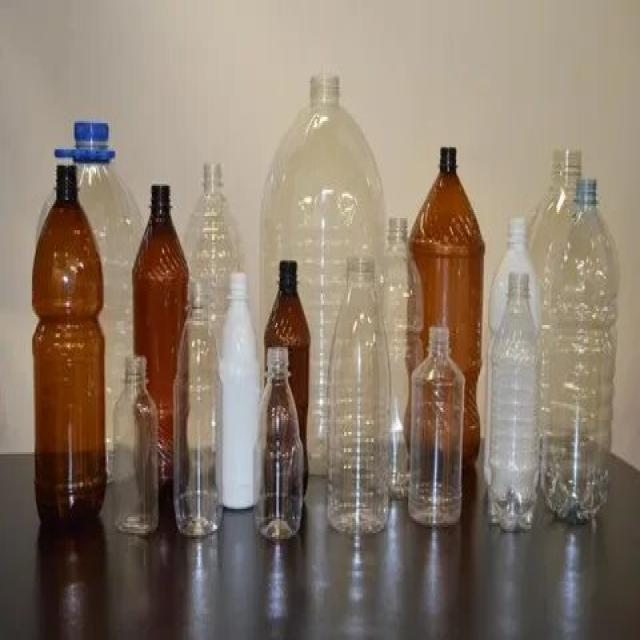brown: (32, 165, 107, 533), (410, 148, 483, 325), (134, 185, 184, 348)
